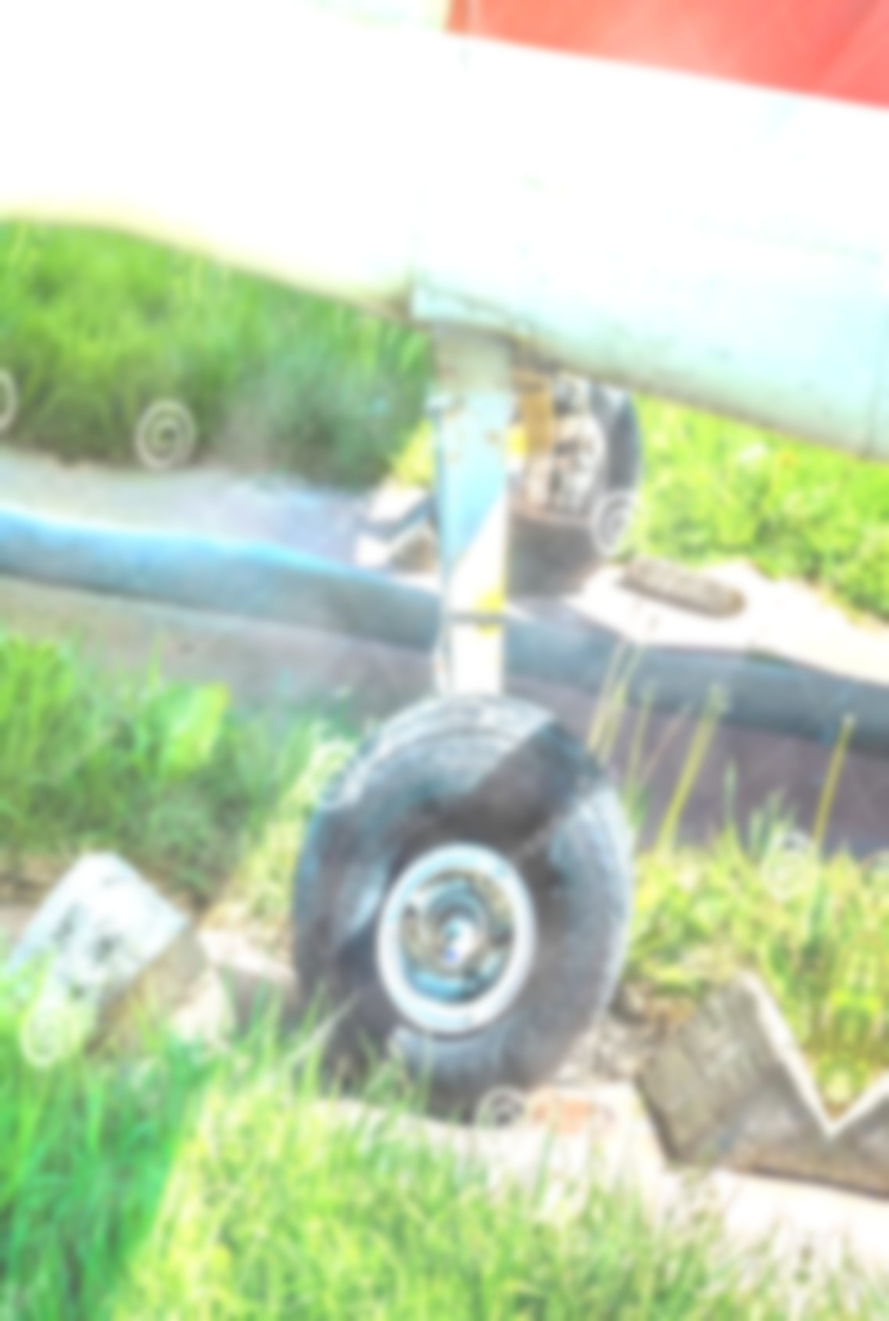chock: (0, 811, 267, 1095), (616, 936, 862, 1207), (383, 470, 459, 583)
wheel: (254, 666, 665, 1136), (491, 367, 655, 605)
